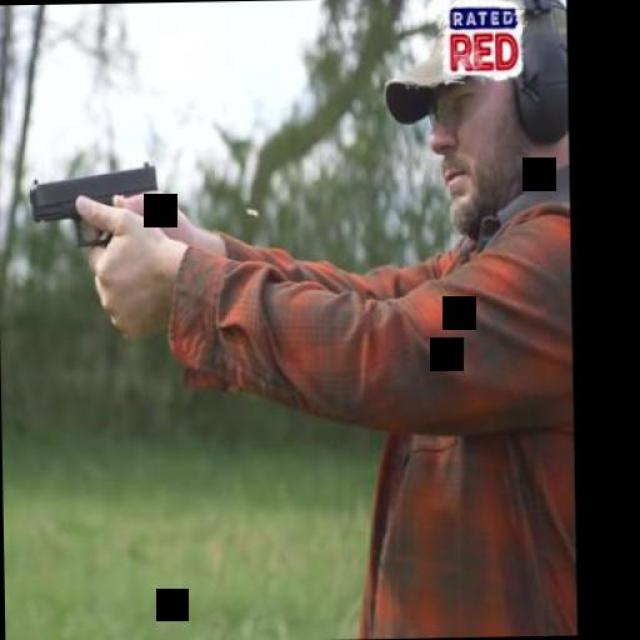gun: (25, 160, 176, 318)
